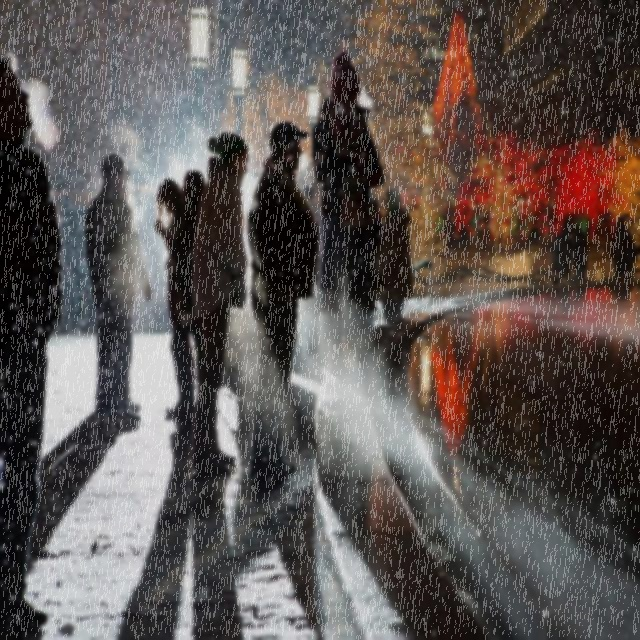pessoa: (0, 46, 69, 638), (246, 118, 321, 490), (307, 44, 388, 388), (184, 124, 249, 482), (80, 147, 144, 436), (152, 176, 200, 424), (170, 167, 208, 429), (120, 167, 154, 414), (373, 183, 414, 324), (548, 207, 572, 314), (568, 213, 593, 314), (610, 212, 638, 280), (302, 174, 323, 214), (454, 214, 469, 263), (474, 226, 496, 251), (442, 214, 453, 247), (526, 218, 541, 242)
